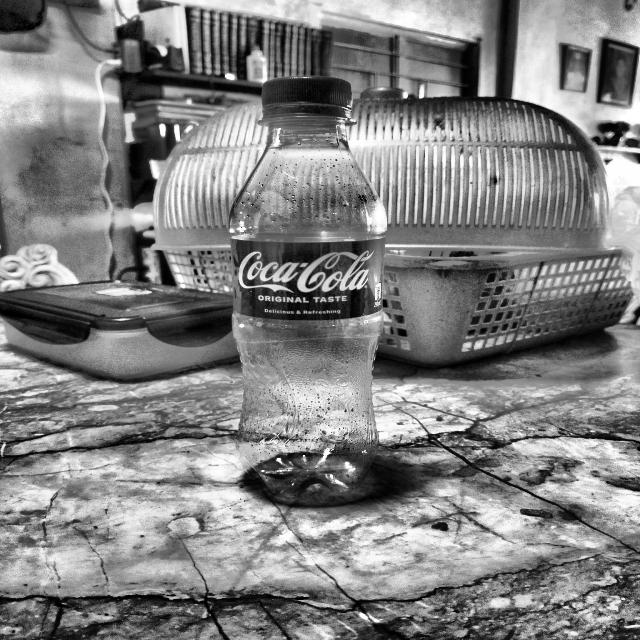Plastic-Bottle: (226, 71, 389, 507)
